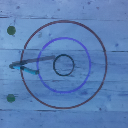Axe Tip: (17, 61, 28, 64)
